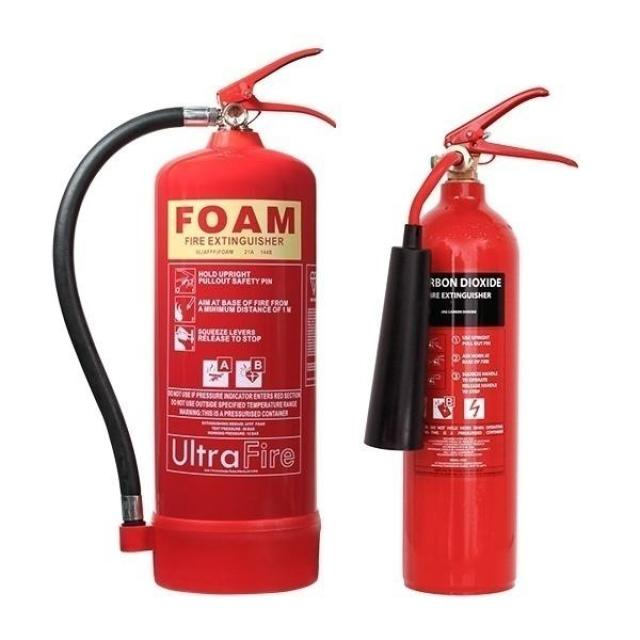fire_extinguisher: (47, 38, 340, 602), (357, 78, 585, 601)
